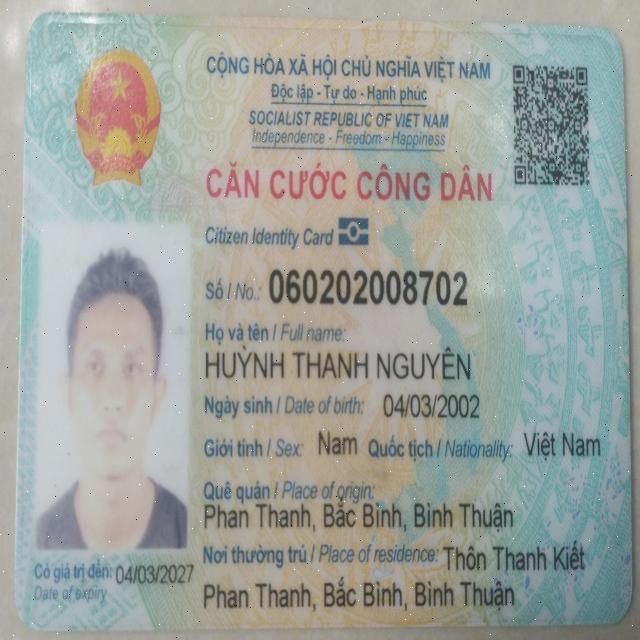current_place: (201, 575, 517, 615), (442, 540, 586, 575)
dob: (379, 389, 481, 423)
expire_date: (113, 560, 194, 586)
gender: (314, 427, 359, 460)
id: (267, 263, 470, 312)
name: (202, 343, 472, 386)
nationality: (520, 426, 601, 462)
origin_place: (203, 500, 516, 535)
